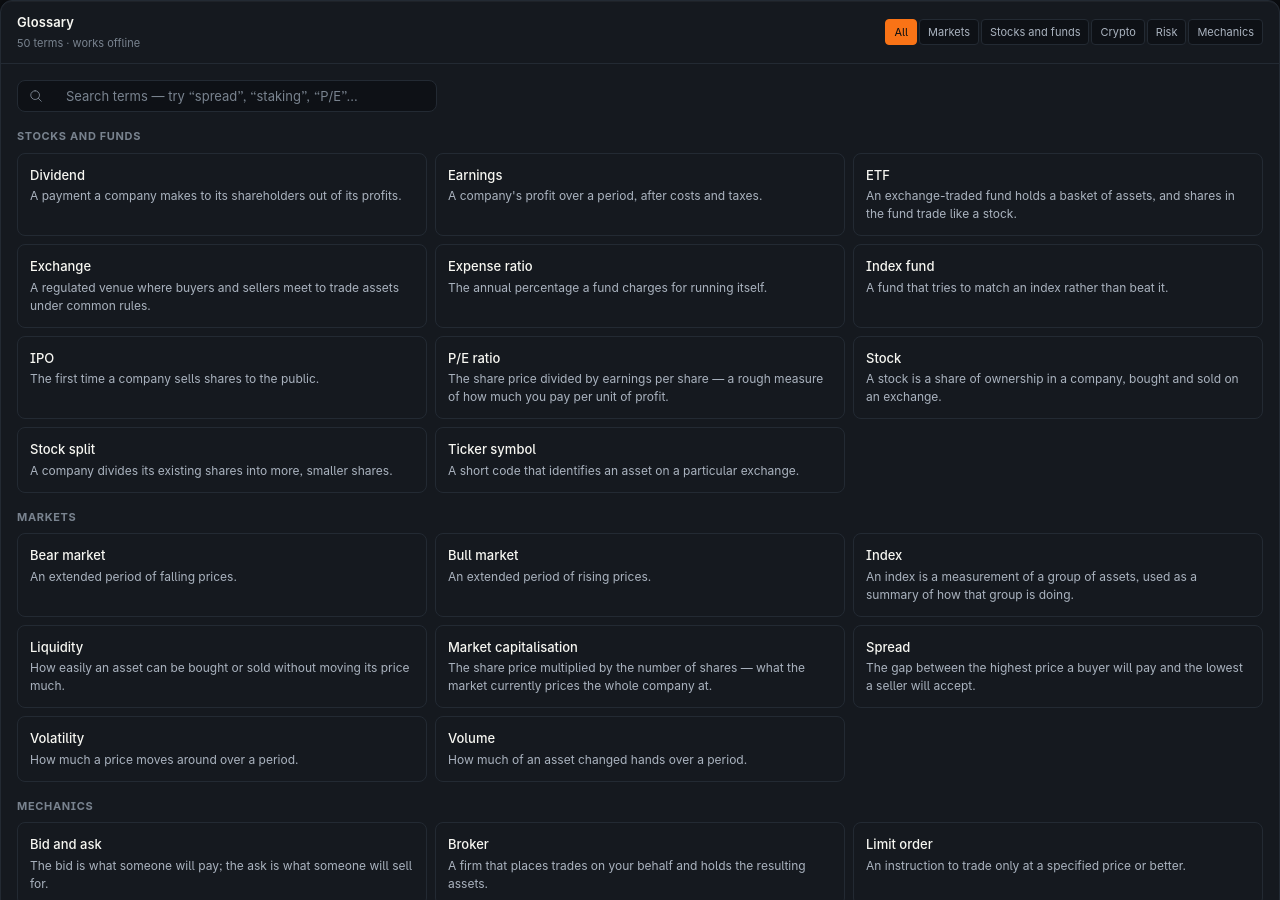
Learn — navigation › filters by category
Click the button "Crypto": [1118, 32] box [1092, 19, 1145, 45]
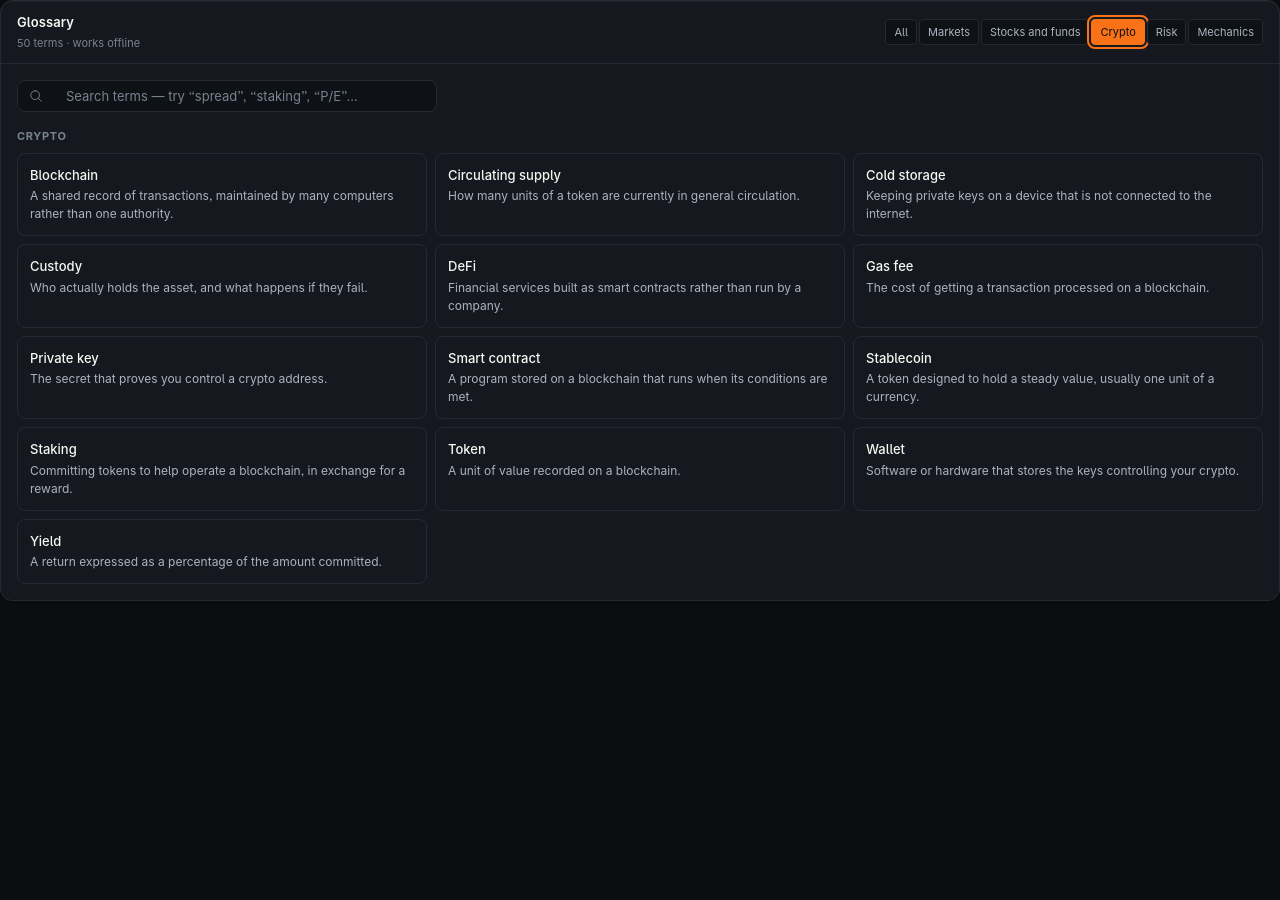
Check: the link "Blockchain" is shown, box [17, 152, 427, 236]
Check: the link "P/E ratio" is gone
